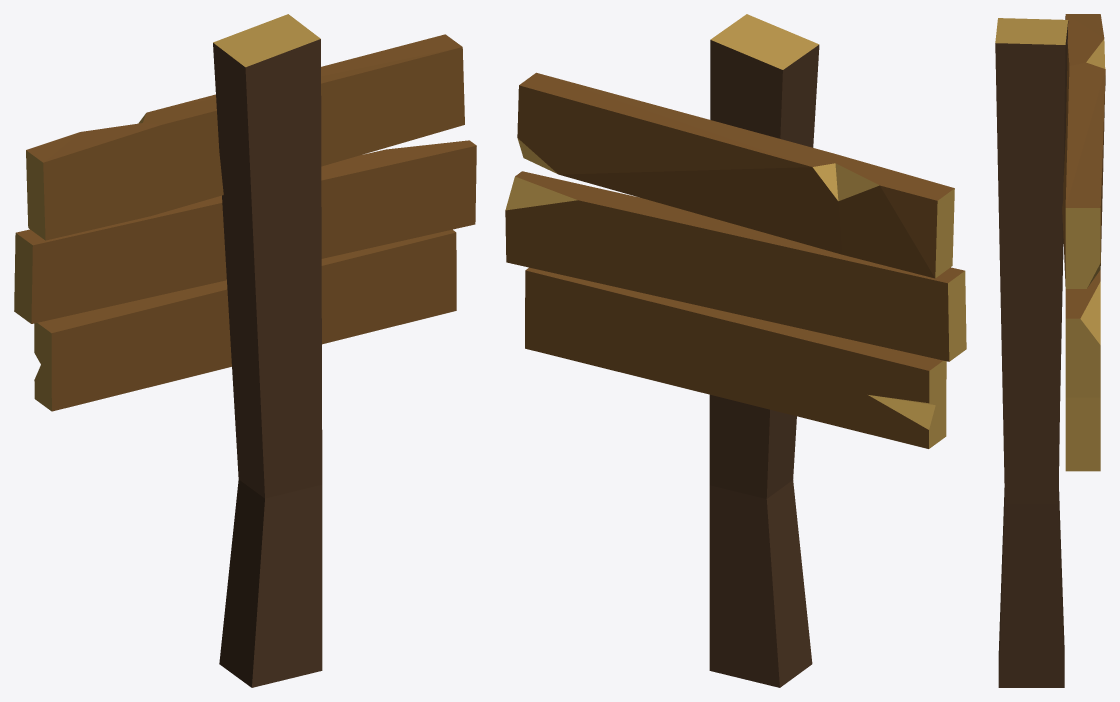
Rendered from Sign.fbx.
3 renders of one model, left to right at view 1: azimuth 30°, elevation 25°; view 2: azimuth 150°, elevation 25°; view 3: azimuth 270°, elevation 25°, orthographic.
Parts seen in each view (by area): view 1: Cube.025; view 2: Cube.025; view 3: Cube.025.
Boxes of the visible parts, <box> form: Cube.025: <box>14,14,476,687</box>; Cube.025: <box>505,14,966,687</box>; Cube.025: <box>995,14,1105,687</box>.
Bounding box in the file's own units: 2.97 × 0.6284 × 4.04.
